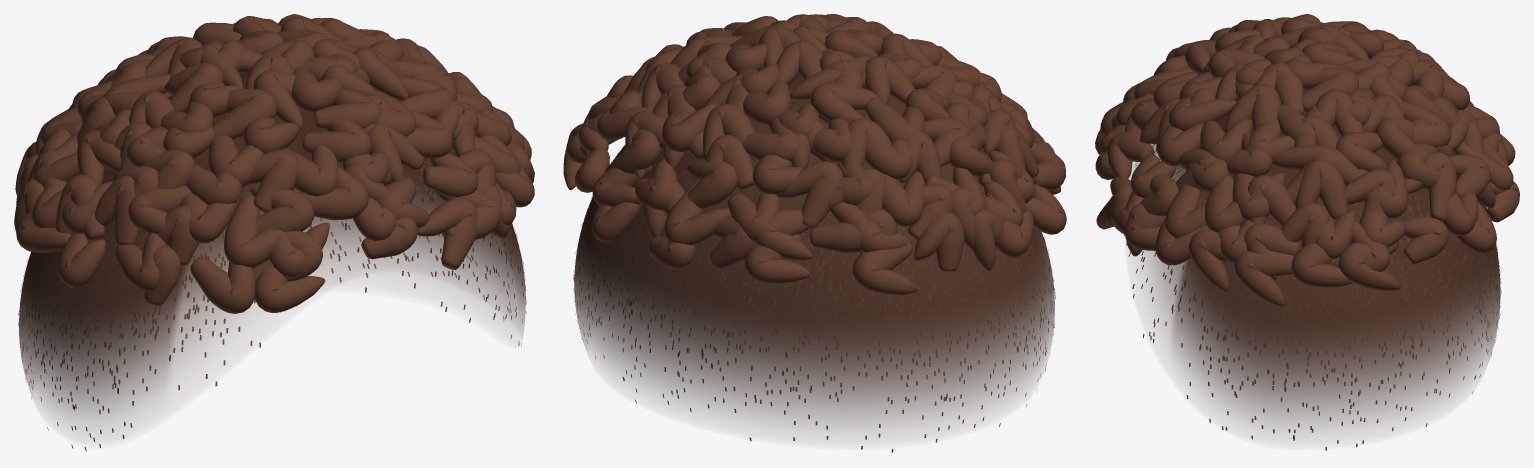
Rendered from Masculine-curly-top-hair.glb.
The picture shows the model from 3 angles, left to right: view 1: azimuth 30°, elevation 25°; view 2: azimuth 150°, elevation 25°; view 3: azimuth 270°, elevation 25°; orthographic projection. The views are drawn at different scales.
Visible parts, largest first — view 1: 226 hair / Hair / chestnut226, 226 hair / Hair / neutral coverage235, 226 hair / Hair / cut grain235; view 2: 226 hair / Hair / chestnut226, 226 hair / Hair / neutral coverage235, 226 hair / Hair / cut grain235; view 3: 226 hair / Hair / chestnut226, 226 hair / Hair / neutral coverage235, 226 hair / Hair / cut grain235.
Part boxes in pixels (x1=…): 226 hair / Hair / chestnut226: x1=14, y1=14, x2=534, y2=313; 226 hair / Hair / neutral coverage235: x1=19, y1=73, x2=525, y2=430; 226 hair / Hair / cut grain235: x1=18, y1=159, x2=526, y2=450; 226 hair / Hair / chestnut226: x1=563, y1=14, x2=1066, y2=295; 226 hair / Hair / neutral coverage235: x1=574, y1=74, x2=1054, y2=433; 226 hair / Hair / cut grain235: x1=573, y1=144, x2=1055, y2=452; 226 hair / Hair / chestnut226: x1=1095, y1=14, x2=1519, y2=306; 226 hair / Hair / neutral coverage235: x1=1129, y1=88, x2=1500, y2=434; 226 hair / Hair / cut grain235: x1=1124, y1=144, x2=1501, y2=450.
Bounding box in the file's own units: 1.01 × 0.7149 × 0.8633.
